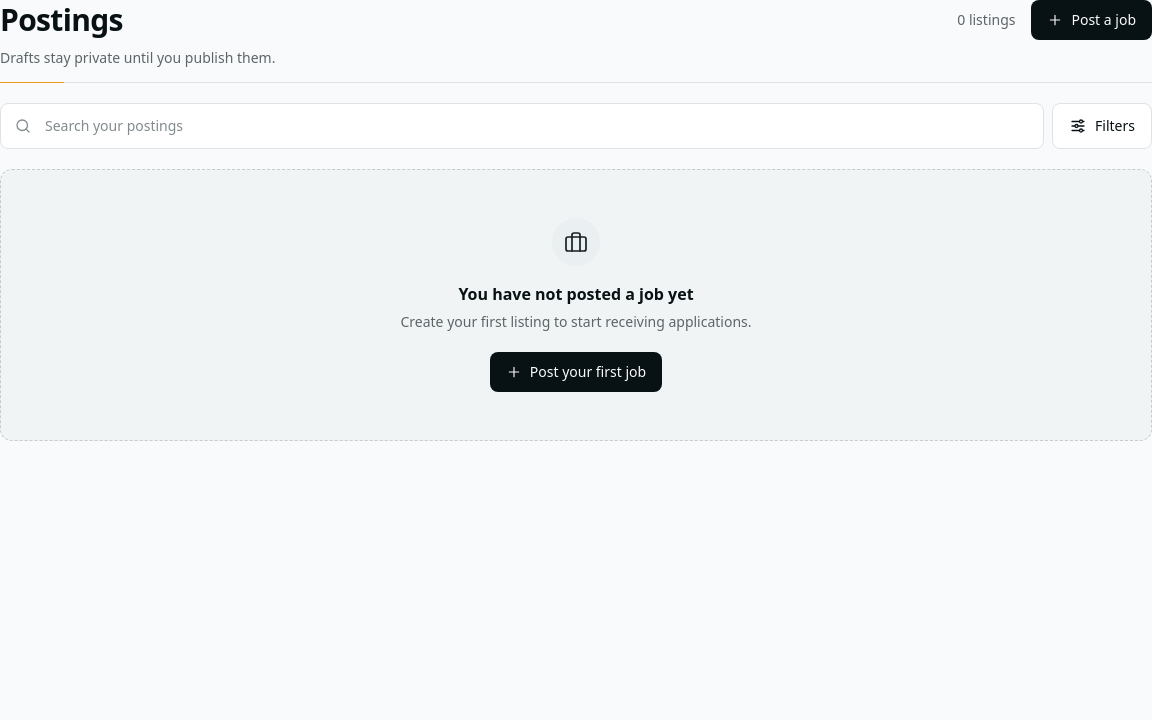
Scenario: HrJobsPage › closes the form without saving when cancelled
The image size is (1152, 720).
expect the text "You have not posted a job yet" is shown: met, box [458,283,694,305]
Step 1. Click the button "Post a job" → coordinates (1092, 20), box [1032,0,1151,40]
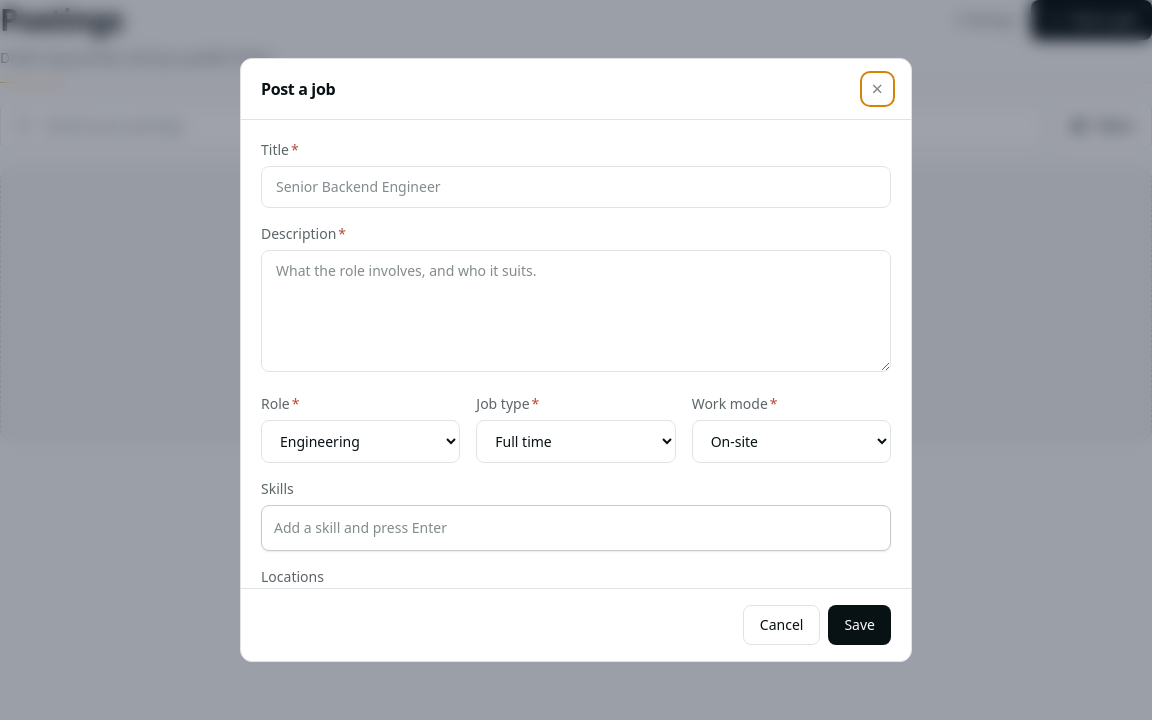
Step 2. Click the button "Cancel" → coordinates (782, 625), box [743,605,820,645]
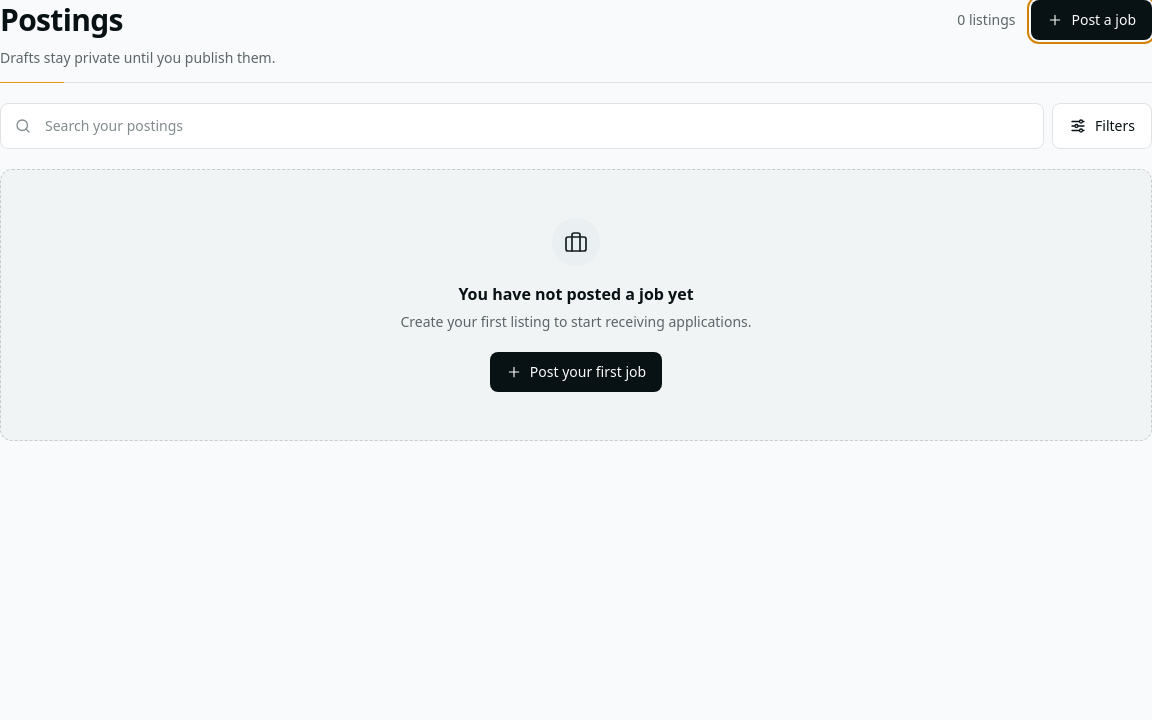
expect the dialog is gone: met
